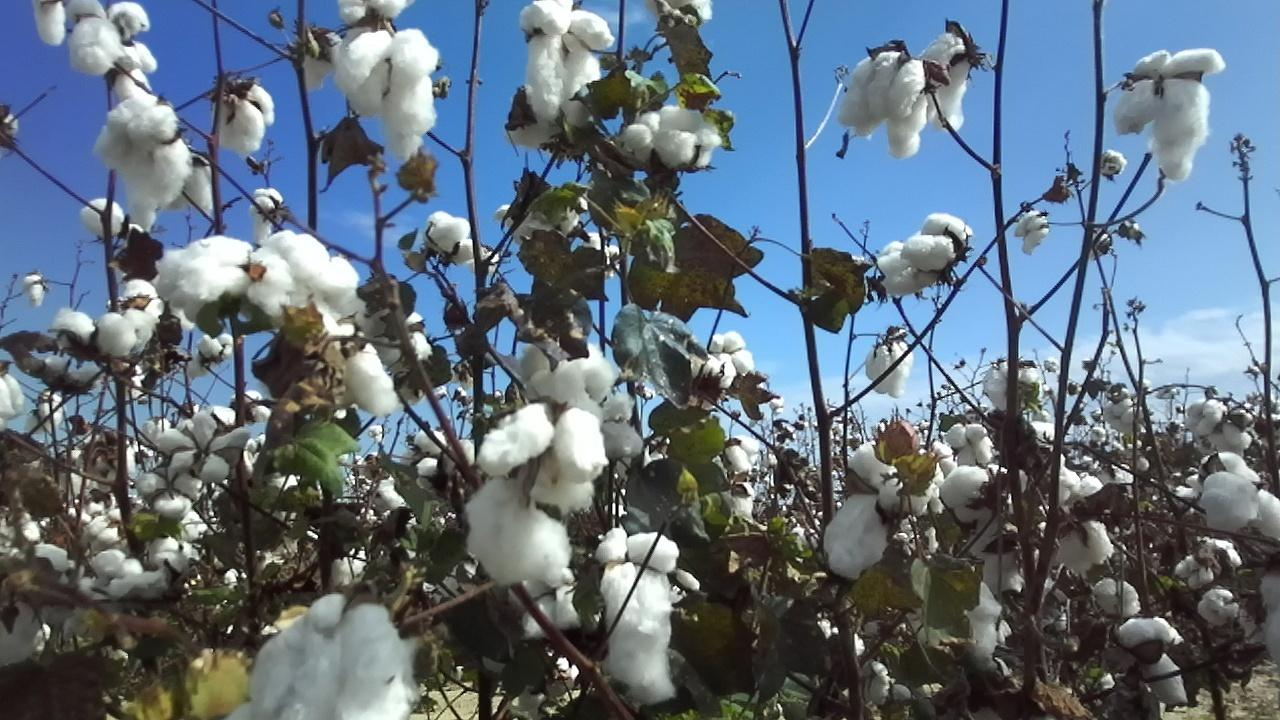cotton_ready: (248, 229, 399, 417), (470, 407, 607, 585), (224, 597, 419, 720), (508, 0, 615, 150), (520, 337, 645, 460), (824, 442, 936, 577), (597, 525, 680, 706), (1112, 50, 1224, 184), (333, 33, 440, 165), (95, 98, 187, 234), (155, 237, 290, 324), (0, 540, 74, 670), (71, 0, 160, 105), (837, 54, 925, 160), (1102, 615, 1193, 706), (1199, 450, 1280, 543), (355, 299, 435, 390), (623, 105, 725, 174), (159, 413, 252, 480), (1057, 477, 1117, 575), (918, 32, 972, 134), (947, 465, 1028, 527), (52, 309, 159, 355), (216, 85, 279, 159), (901, 210, 975, 269), (961, 578, 1012, 659), (969, 526, 1025, 599), (496, 193, 587, 237), (75, 549, 147, 602), (879, 239, 940, 297), (414, 424, 477, 478), (167, 151, 219, 215), (134, 469, 201, 517), (716, 439, 755, 520), (982, 362, 1042, 414), (427, 213, 484, 264), (704, 331, 755, 384), (864, 342, 912, 397), (149, 535, 200, 578), (944, 424, 993, 466), (1259, 575, 1280, 664), (339, 0, 416, 22), (0, 370, 27, 432), (35, 0, 69, 47), (1218, 410, 1254, 454), (1185, 397, 1221, 438)
